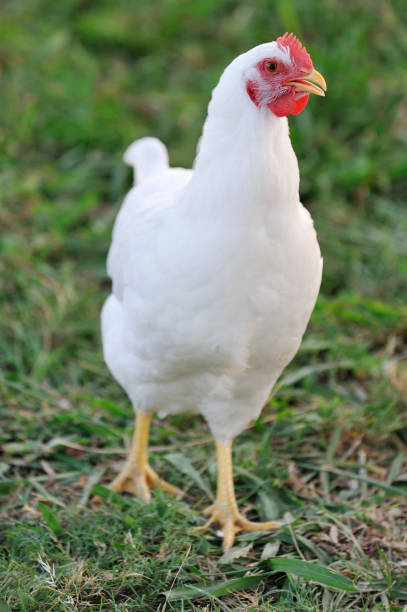Healthy: (97, 20, 344, 560)
